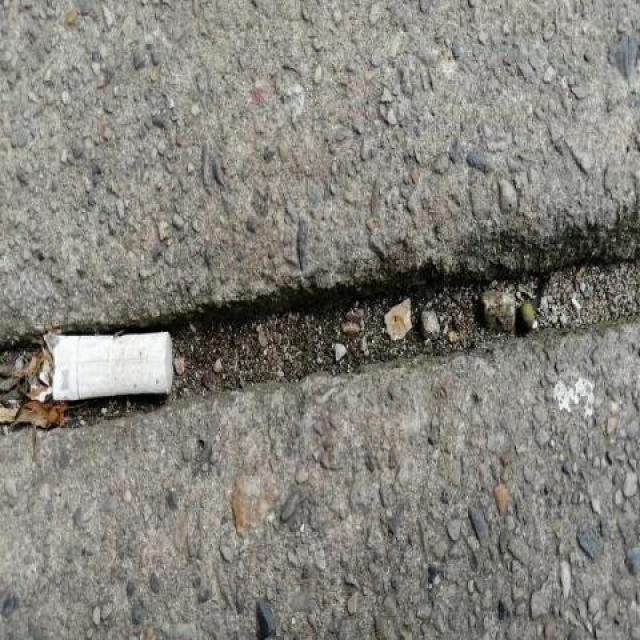non-organic waste: (36, 321, 180, 408)
